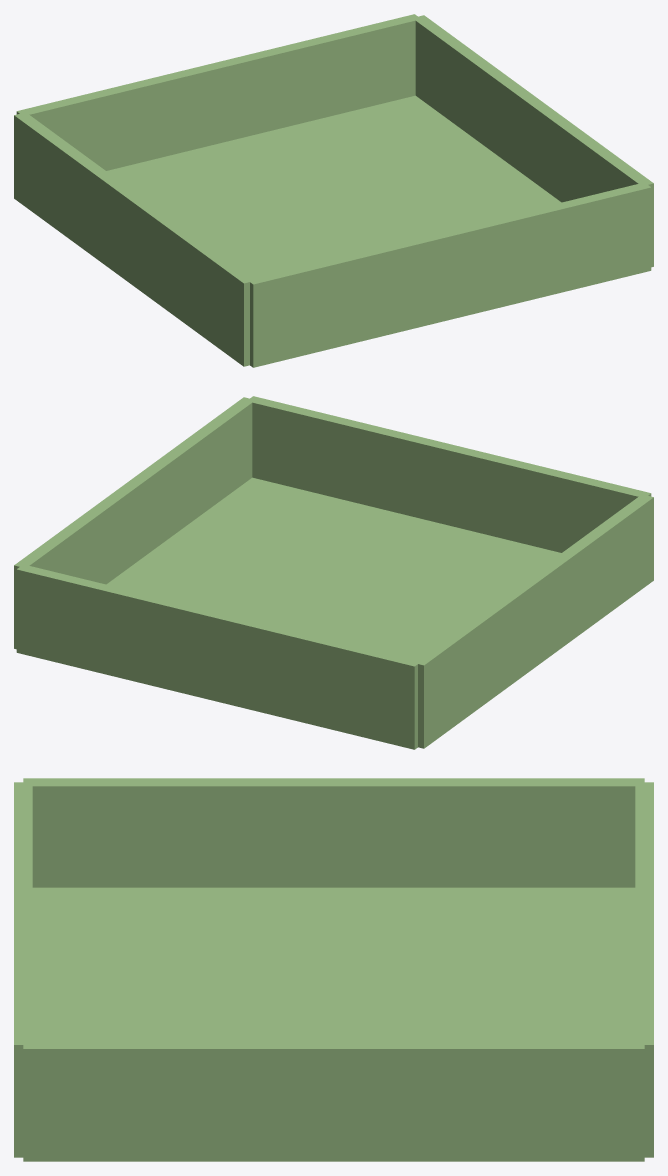
Rendered from Building_Garden.fbx.
3 views of the same model, one above another, from view 1: azimuth 30°, elevation 25°; view 2: azimuth 150°, elevation 25°; view 3: azimuth 270°, elevation 25° (orthographic). The views are drawn at different scales.
Visible parts, largest first — view 1: Garden; view 2: Garden; view 3: Garden.
Part boxes in pixels (x1,y1,x2,y2): Garden: [14, 14, 653, 367]; Garden: [14, 396, 653, 749]; Garden: [14, 778, 653, 1161].
Size of the model in its own units: 2.06 by 0.4 by 2.06.
